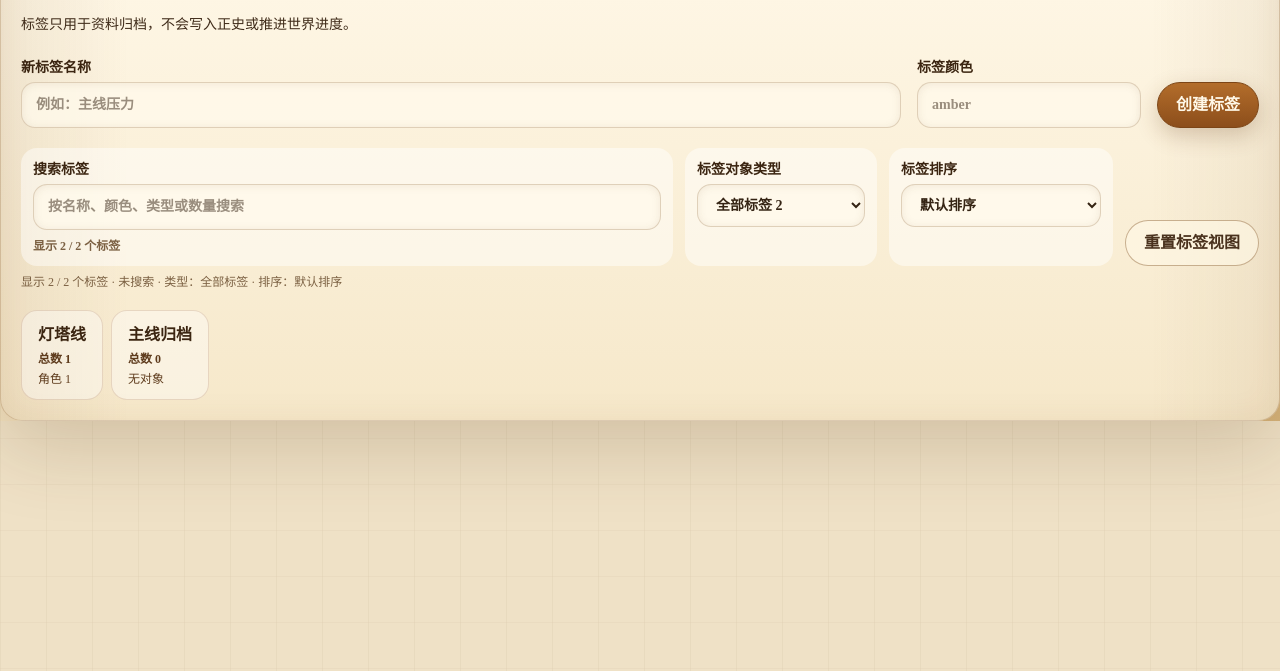
Test: WorldTagsPanel › merges the selected tag into another tag and loads the target detail
Check: the text "灯塔线" is shown, box [38,323,86,347]
Click the button with aria-label "查看 灯塔线": (62, 355) [21,310,103,400]
(page scrolled)
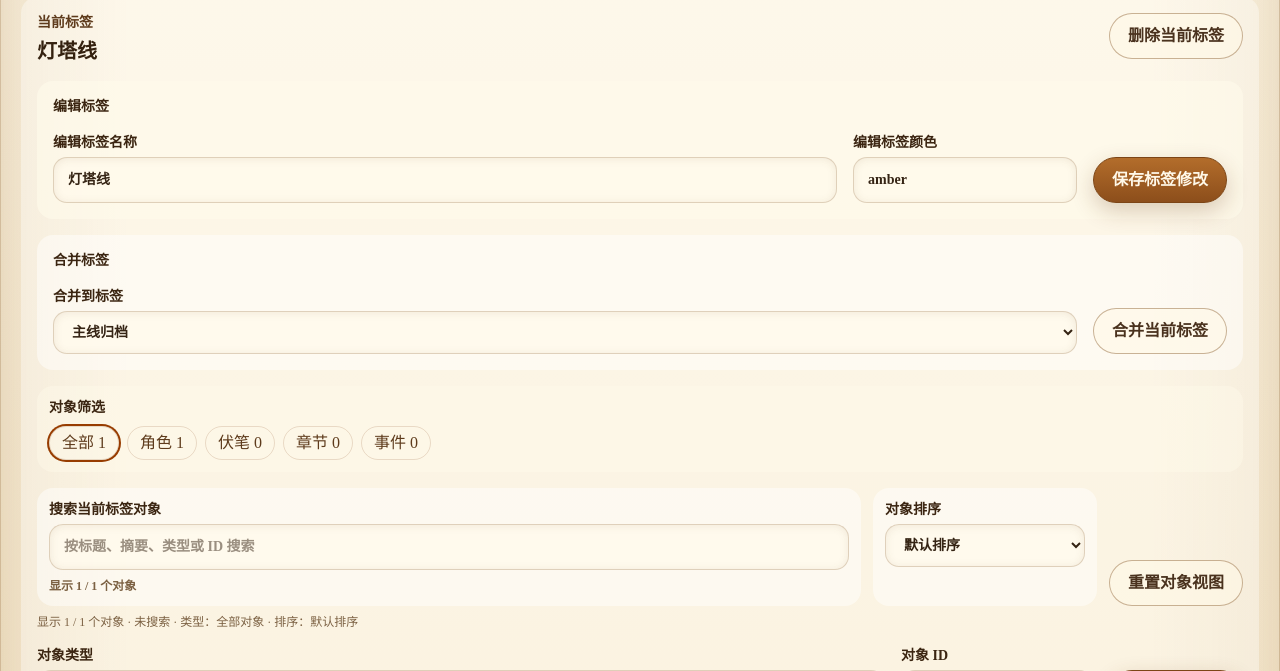
Check: the text "合并标签" is shown, box [53,253,109,268]
Select "主线归档" in the dropdown labelled "合并到标签": (565, 333) [53,311,1077,354]
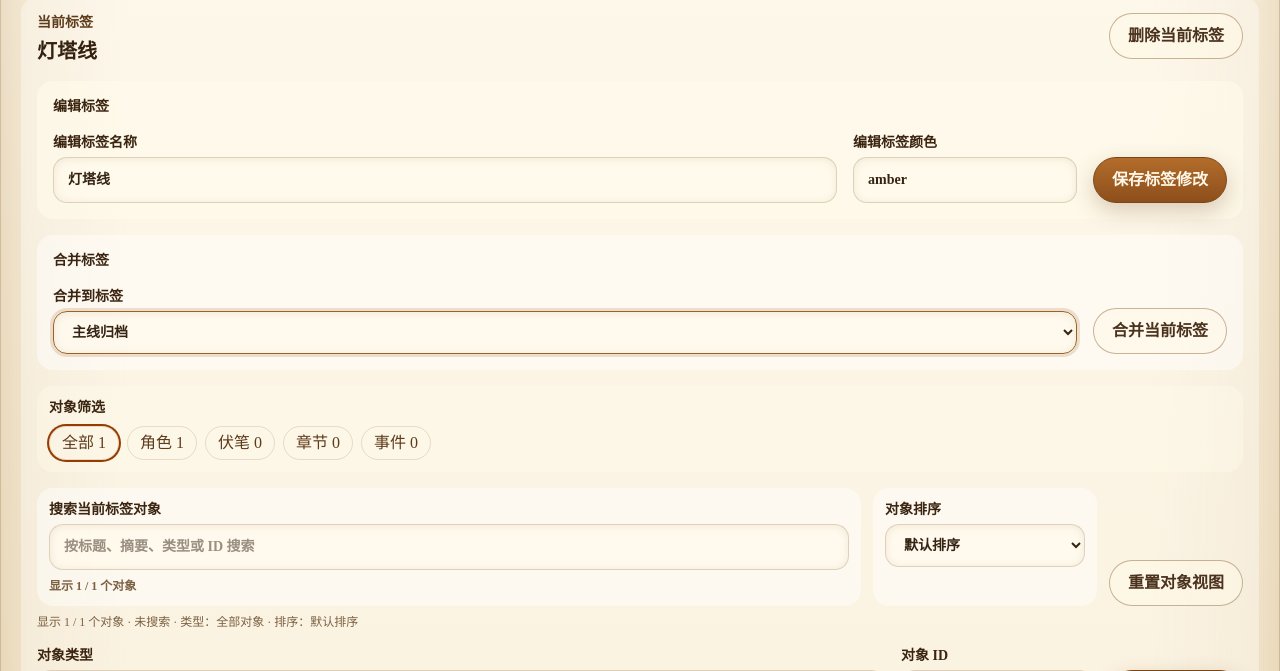
Click the button "合并当前标签": (1160, 331) [1093,308,1227,354]
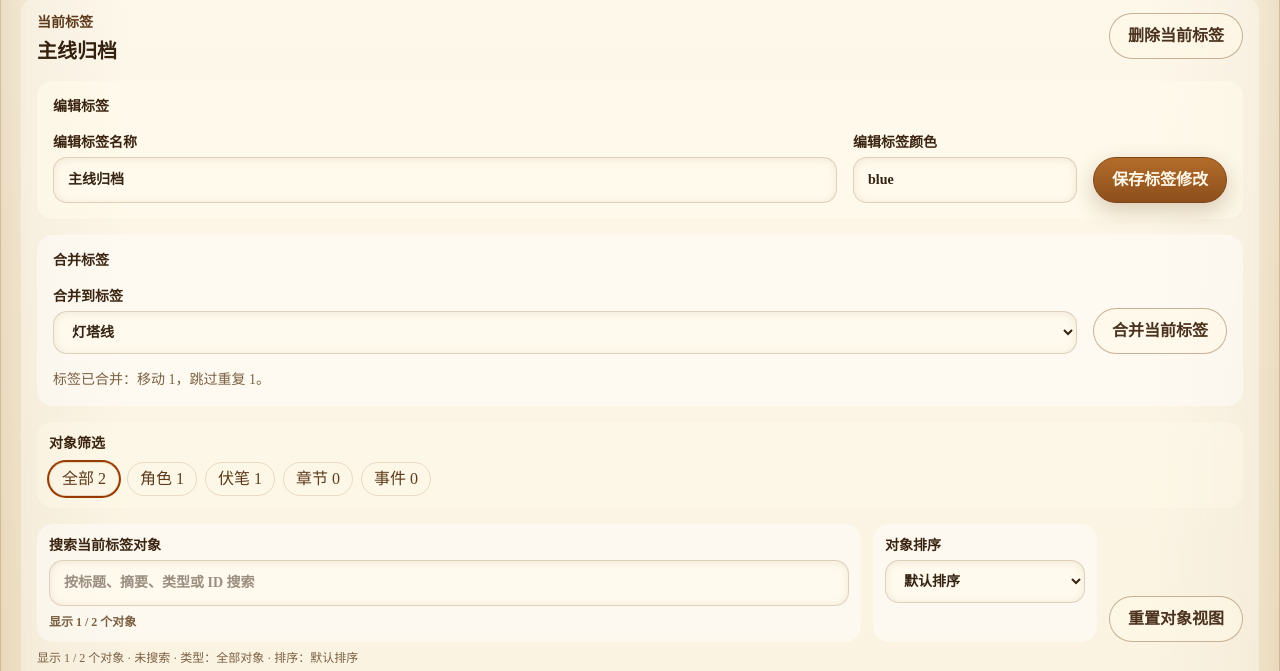
Check: the text "标签已合并：移动 1，跳过重复 1。" is shown, box [53,372,270,387]
